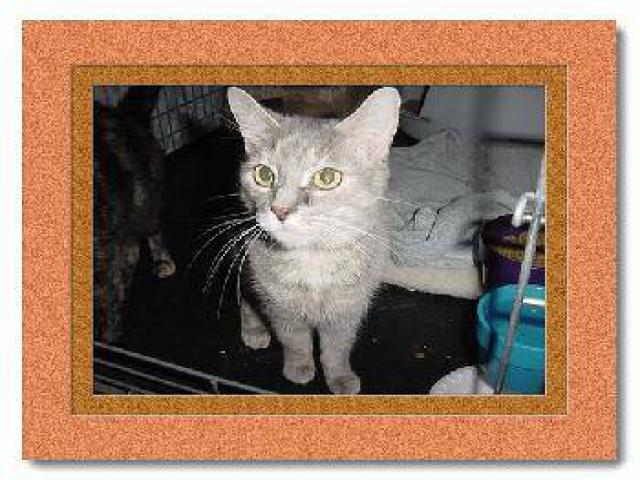cat: (173, 76, 408, 395)
